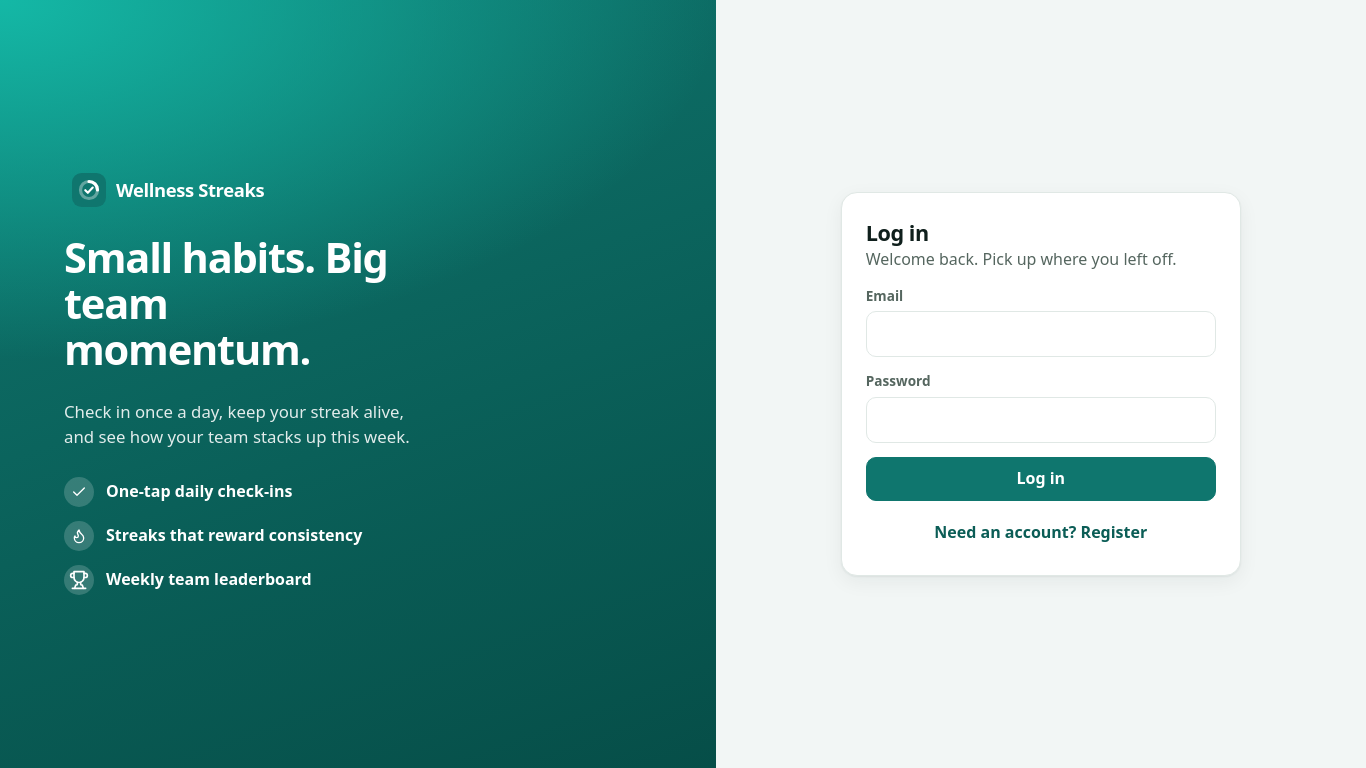
Test: login flow › register defaults timezone to the browser timezone
Click the button "Need an account? Register".
click(1041, 533)  # box [866,515,1216,551]
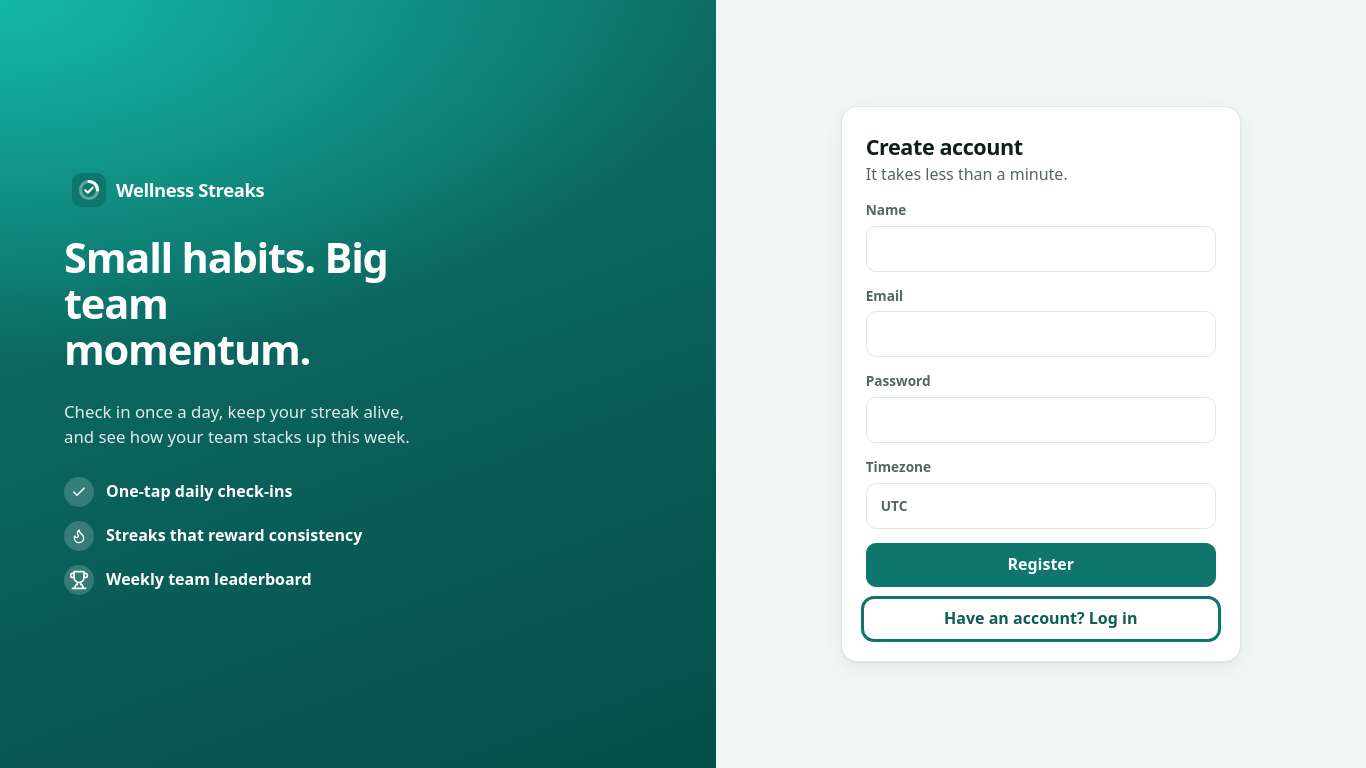
Expected: the field labelled "Timezone" holds "UTC", [866,483,1216,529]
